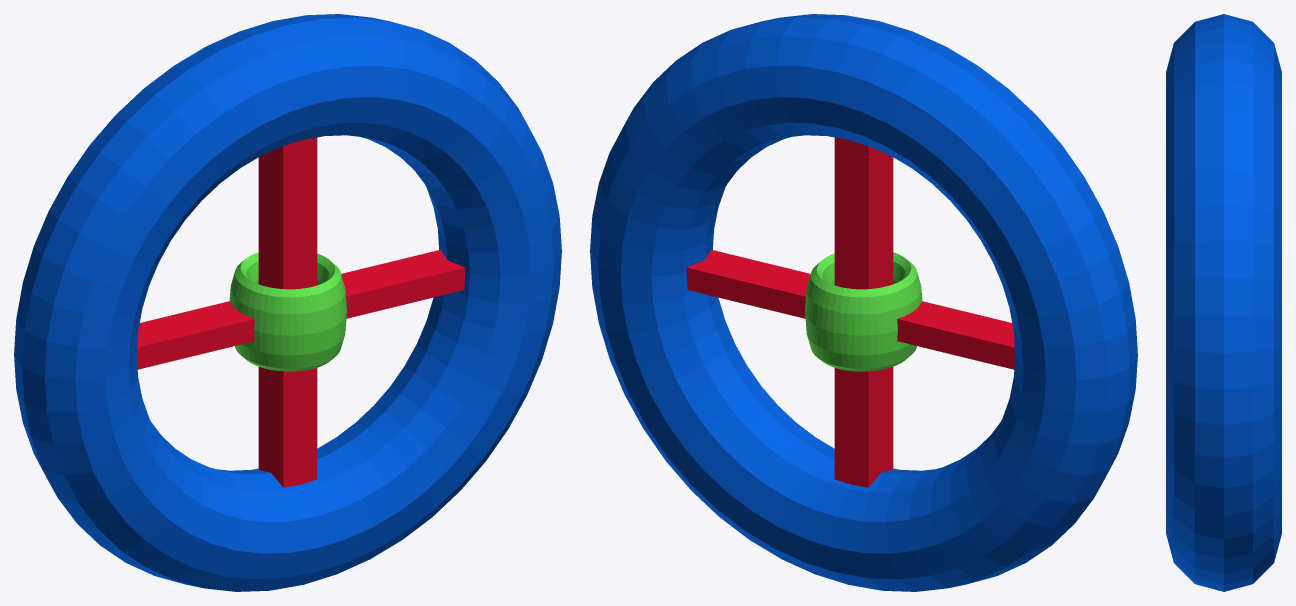
Rendered from add points.fbx.
3 views of the same model, side by side, from view 1: azimuth 30°, elevation 25°; view 2: azimuth 150°, elevation 25°; view 3: azimuth 270°, elevation 25° (orthographic). The views are drawn at different scales.
Parts seen in each view (by area): view 1: add points; view 2: add points; view 3: add points.
Part boxes in pixels (x1,y1,x2,y2): add points: [14, 14, 561, 591]; add points: [590, 14, 1137, 591]; add points: [1166, 14, 1281, 591].
Size of the model in its own units: 2.5 by 2.5 by 0.5.
